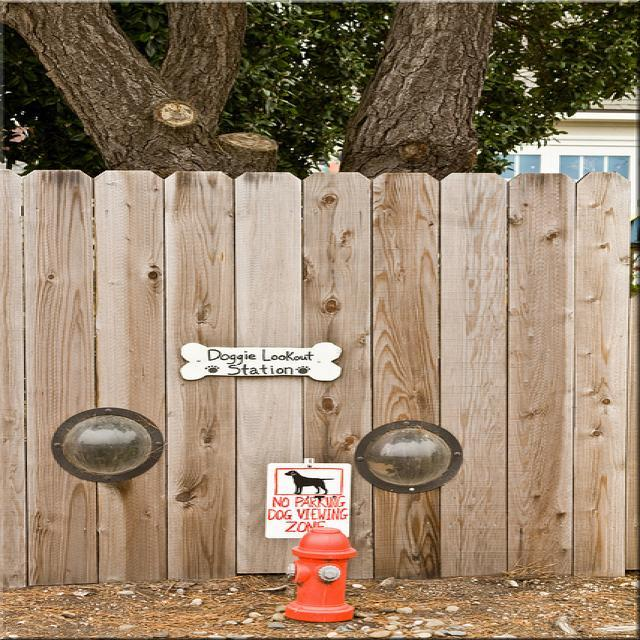fire_hydrant: (283, 528, 360, 623)
